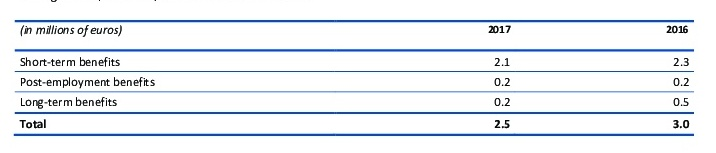table: (0, 0, 716, 153)
